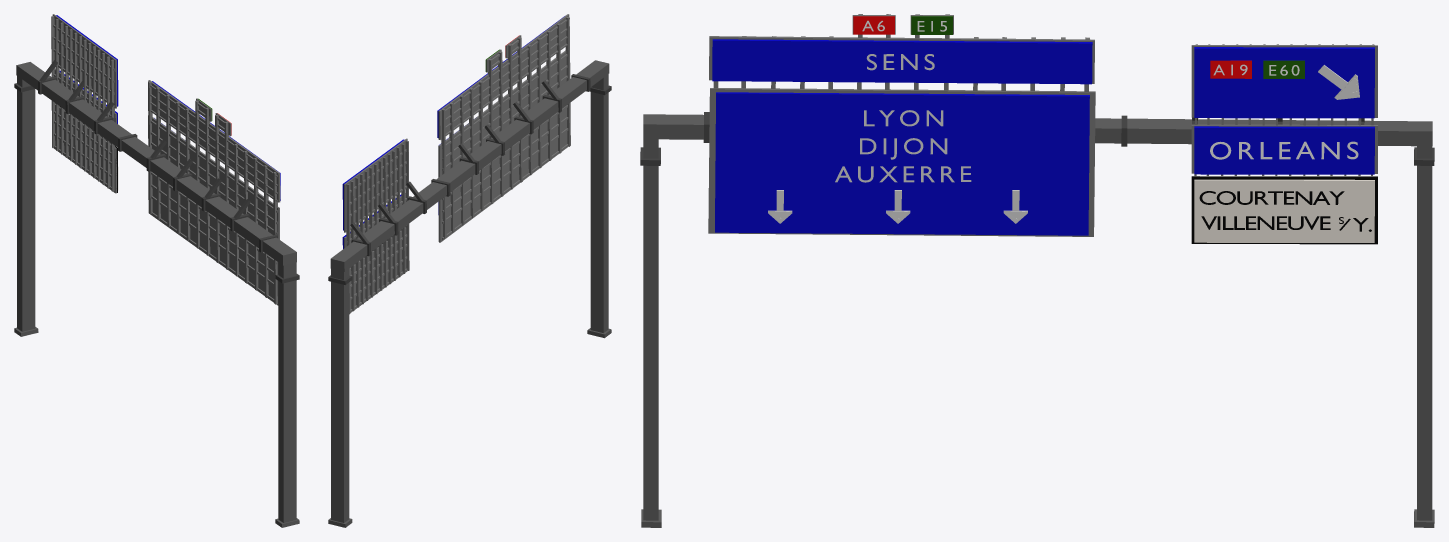
File: sign.fbx
3 views of the same model, side by side, from view 1: azimuth 30°, elevation 25°; view 2: azimuth 150°, elevation 25°; view 3: azimuth 270°, elevation 25° (orthographic). The views are drawn at different scales.
Parts seen in each view (by area): view 1: Cube.002, Cube.027, Cube.001, Cube, Cube.033, Cube.060, Cube.063, Cube.069, Cube.064, Cube.066, Cube.062, Cube.071 (+28 smaller); view 2: Cube.002, Cube.027, Cube, Cube.001, Cube.033, Cube.060, Cube.063, Cube.062, Cube.064, Cube.066, Cube.067, Cube.069 (+27 smaller); view 3: Cube.010, Cube.054, Cube.061, Cube.073, Cube.006, Cube.002, Cube.001, Cube, Cube.027, Not a texte, Cube.033, Cube.142 (+2 smaller).
Part boxes in pixels (left/top/right/bottom): Cube.002: left=16, top=62, right=296, bottom=265; Cube.027: left=148, top=115, right=279, bottom=305; Cube.001: left=278, top=262, right=296, bottom=522; Cube: left=17, top=76, right=35, bottom=331; Cube.033: left=148, top=80, right=280, bottom=202; Cube.060: left=52, top=14, right=116, bottom=108; Cube.063: left=53, top=103, right=116, bottom=193; Cube.069: left=224, top=121, right=229, bottom=269; Cube.064: left=205, top=107, right=210, bottom=255; Cube.066: left=195, top=100, right=199, bottom=248; Cube.062: left=215, top=114, right=219, bottom=262; Cube.071: left=253, top=158, right=258, bottom=290; Cube.002: left=330, top=60, right=609, bottom=271; Cube.027: left=438, top=50, right=567, bottom=242; Cube: left=331, top=269, right=349, bottom=522; Cube.001: left=590, top=74, right=608, bottom=332; Cube.033: left=438, top=14, right=569, bottom=139; Cube.060: left=344, top=138, right=407, bottom=232; Cube.063: left=350, top=227, right=407, bottom=312; Cube.062: left=507, top=44, right=513, bottom=189; Cube.064: left=498, top=51, right=503, bottom=196; Cube.066: left=488, top=58, right=493, bottom=204; Cube.067: left=469, top=88, right=474, bottom=218; Cube.069: left=517, top=37, right=522, bottom=182; Cube.010: left=715, top=92, right=1089, bottom=235; Cube.054: left=712, top=39, right=1092, bottom=84; Cube.061: left=1194, top=47, right=1374, bottom=118; Cube.073: left=1194, top=179, right=1374, bottom=242; Cube.006: left=1194, top=126, right=1374, bottom=174; Cube.002: left=643, top=114, right=1432, bottom=146; Cube.001: left=643, top=139, right=658, bottom=520; Cube: left=1417, top=146, right=1432, bottom=520; Cube.027: left=708, top=88, right=1095, bottom=236; Not a texte: left=835, top=110, right=971, bottom=182; Cube.033: left=709, top=36, right=1094, bottom=83; Cube.142: left=1191, top=176, right=1377, bottom=244.
Bounding box in the file's own units: 87.88 × 1211 × 1695.
